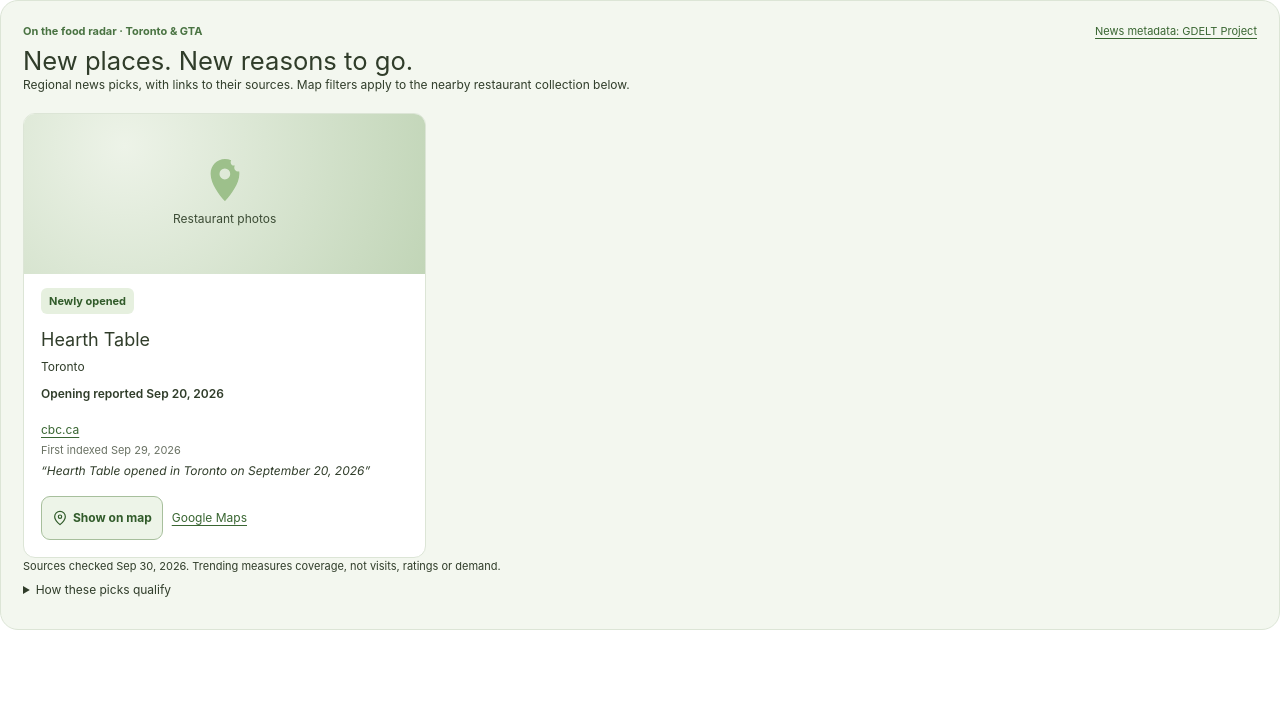
source-backed discoveries › hides expired labels before waiting for a replacement and aborts an outstanding map lookup
Click the button with aria-label "Show on map Hearth Table" at (102, 518), box [41,496,163,540]
Wait 2000 ms
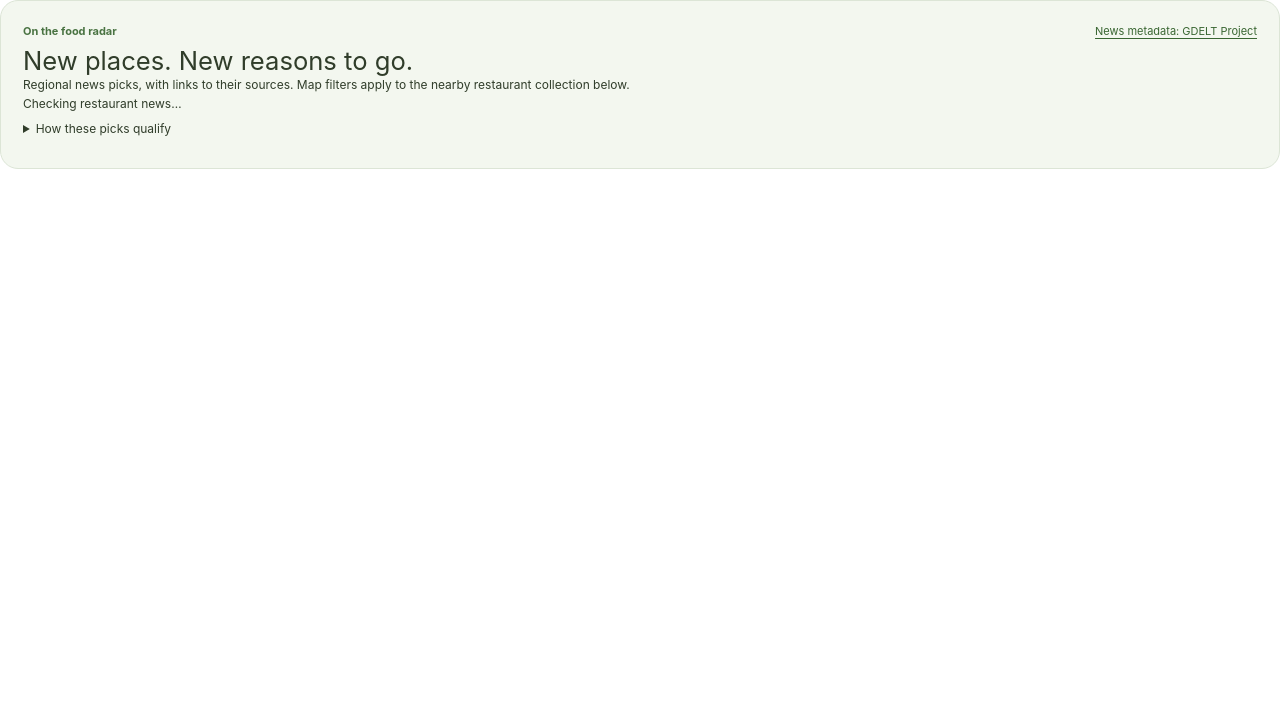
expect the text "Newly opened" is gone: met
expect the message shows "Checking restaurant news": met, box [23,96,182,111]
